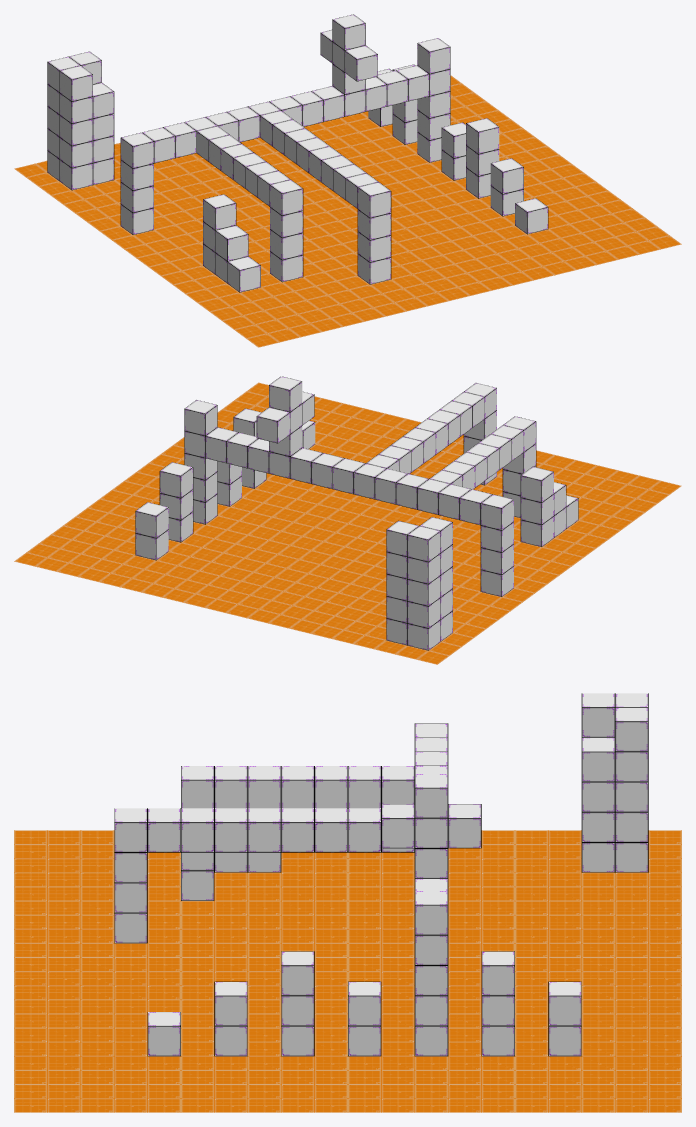
The picture shows the model from 3 angles, top to bottom: view 1: azimuth 30°, elevation 25°; view 2: azimuth 150°, elevation 25°; view 3: azimuth 270°, elevation 25°; orthographic projection. The views are drawn at different scales.
Parts seen in each view (by area): view 1: Plane; view 2: Plane; view 3: Plane.
Boxes of the visible parts, left/top/right/bottom form: Plane: left=14, top=14, right=681, bottom=347; Plane: left=14, top=376, right=681, bottom=664; Plane: left=14, top=693, right=681, bottom=1112.
Bounding box in the file's own units: 20 × 7 × 20.
2 materials, 2 textured.
